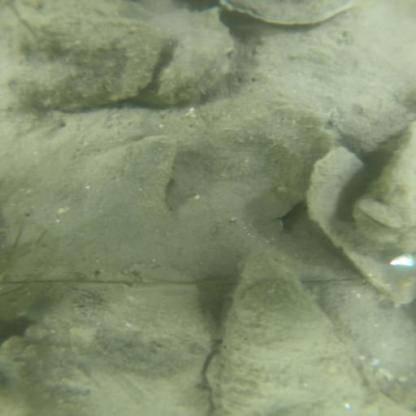Oyster- Indeterminate: (214, 265, 363, 416)
Oyster-Closed: (0, 280, 213, 416), (6, 1, 161, 108), (357, 122, 415, 233), (156, 20, 231, 105)
